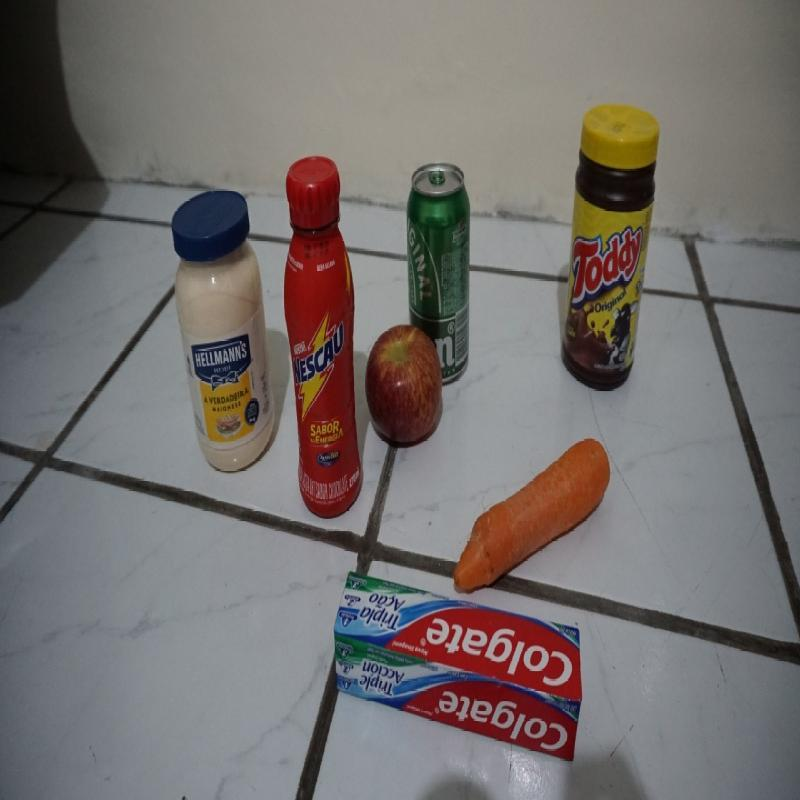Apple: (366, 325, 441, 450)
Beer can: (406, 161, 474, 382)
Carrot: (453, 436, 613, 590)
Chocolate Milk: (283, 155, 361, 515)
Chocolate Powder: (561, 101, 662, 389)
Mayonnaise: (171, 188, 276, 472)
Toothpaste: (333, 571, 586, 762)
